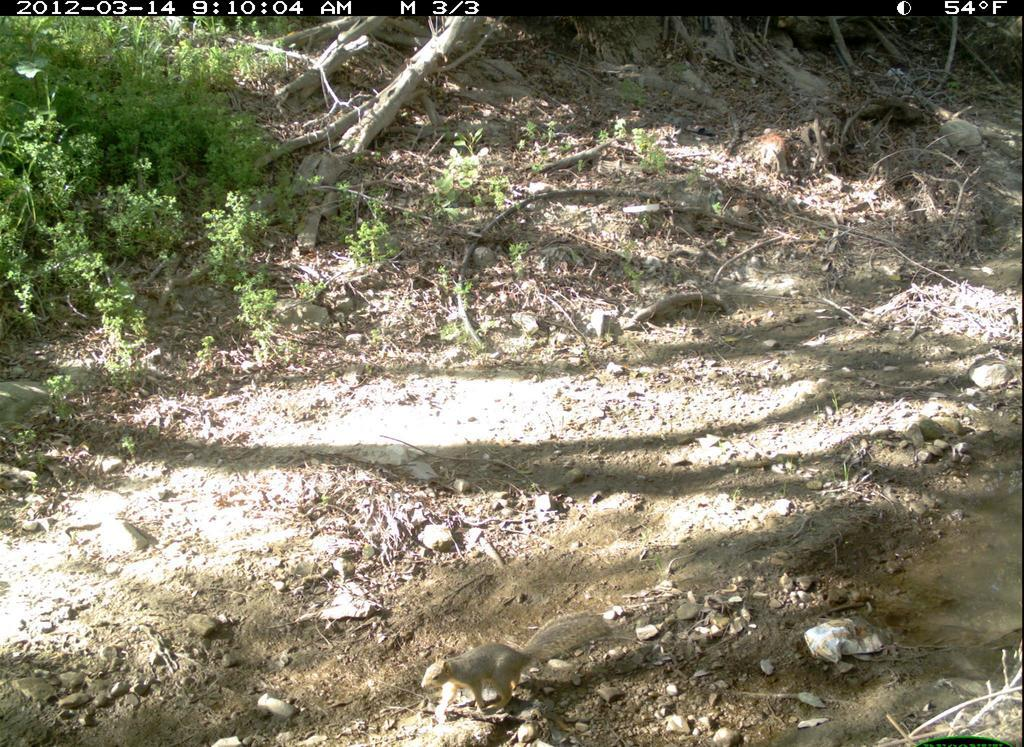squirrel: (414, 605, 615, 722)
